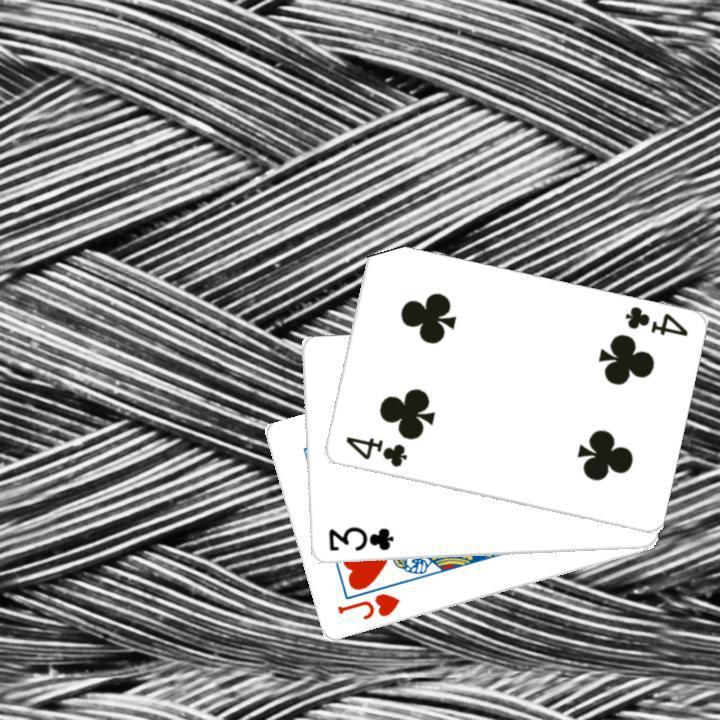3: (323, 523, 395, 554)
4: (620, 302, 690, 339), (340, 433, 409, 469)
J: (332, 589, 402, 623)
